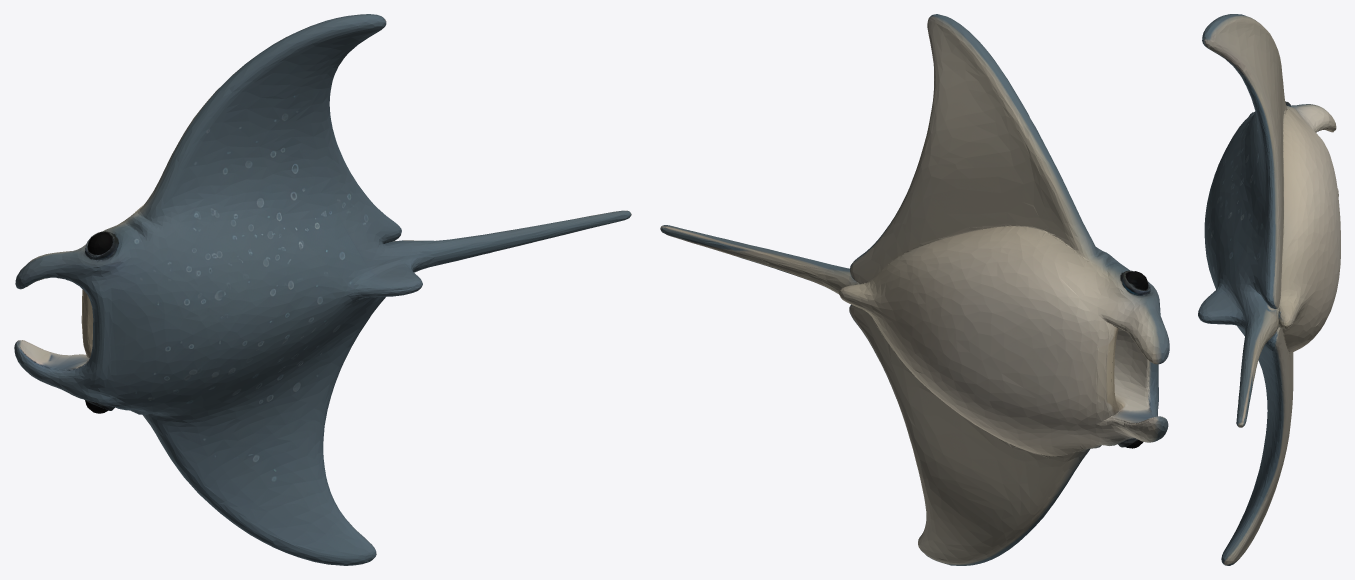
File: cartoon_manta_ray_animated.obj
The picture shows the model from 3 angles, left to right: view 1: azimuth 30°, elevation 25°; view 2: azimuth 150°, elevation 25°; view 3: azimuth 270°, elevation 25°; orthographic projection. The views are drawn at different scales.
Parts seen in each view (by area): view 1: Object.1; view 2: Object.1; view 3: Object.1.
Part boxes in pixels (x1,y1,x2,y2): Object.1: (14, 14, 631, 565); Object.1: (660, 14, 1169, 565); Object.1: (1198, 14, 1340, 565).
Size of the model in its own units: 2177 by 2029 by 490.
Materials: 1 (1 with a texture image).
